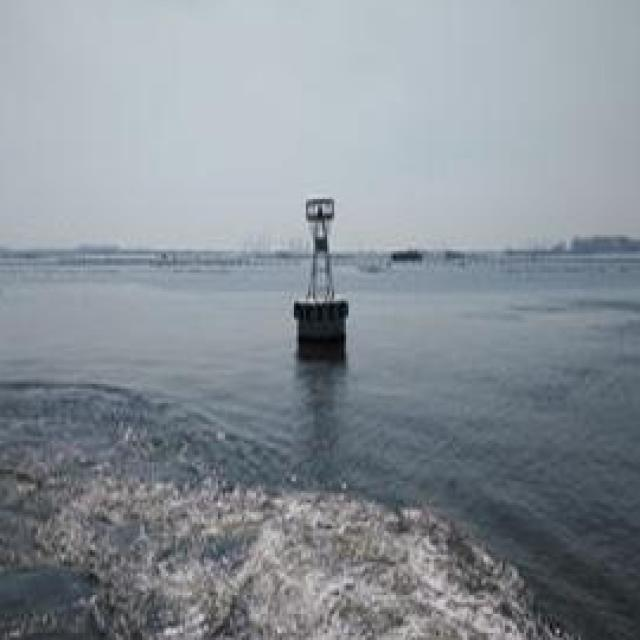buoy: (282, 190, 354, 342)
